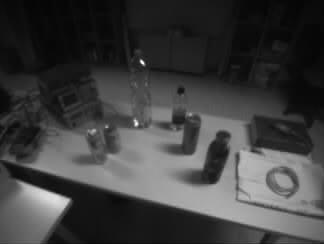Bottle: (128, 49, 151, 125), (202, 131, 230, 182), (173, 86, 185, 126)
Tin can: (85, 129, 107, 164), (184, 115, 197, 155), (103, 126, 121, 154)
